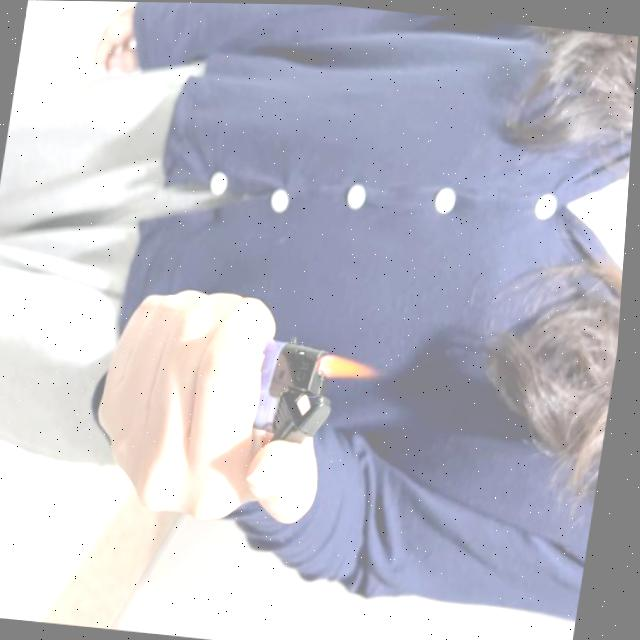Fire: (320, 348, 379, 384)
